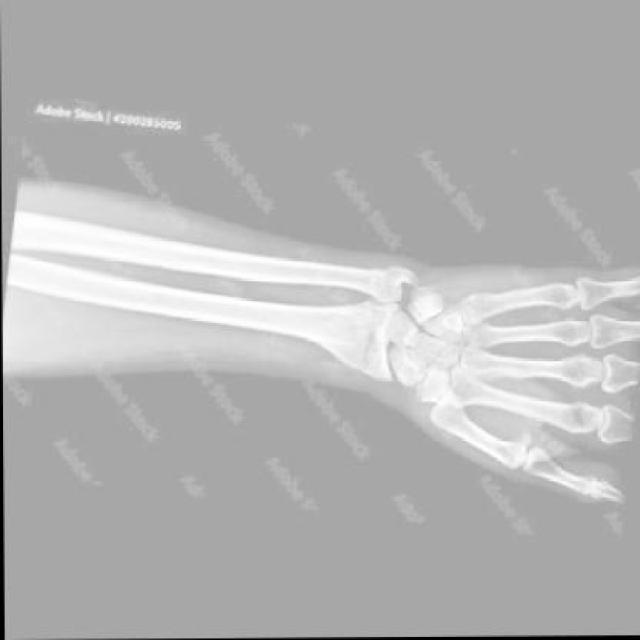Fracture: (340, 296, 385, 378), (366, 254, 402, 298)
